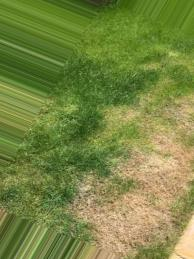patch: (109, 204, 147, 230), (149, 144, 184, 167), (140, 167, 168, 183), (141, 188, 162, 201), (150, 206, 168, 221)
